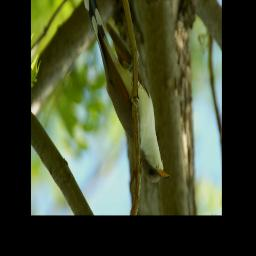Cuckoo: (80, 0, 170, 183)
